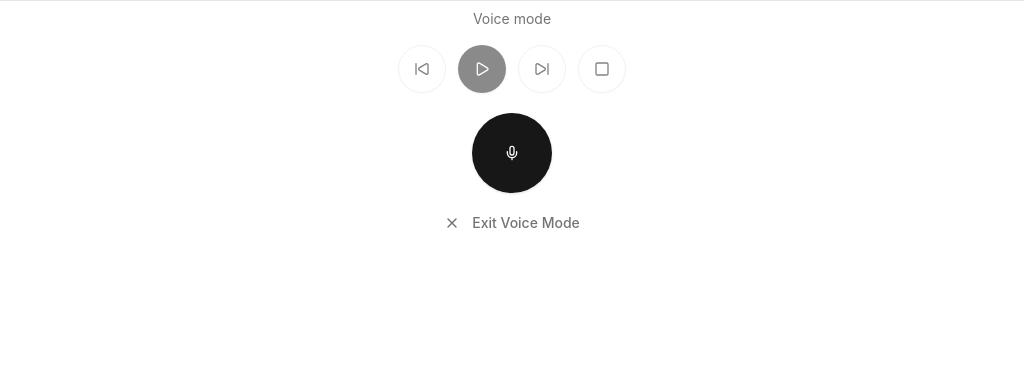
Test case: VoiceControlPanel send-failure handling › auto-send: restores the transcript and shows an error when the send rejects
Click the button named "start recording": [512, 153] box x1=472 y1=113 x2=552 y2=193
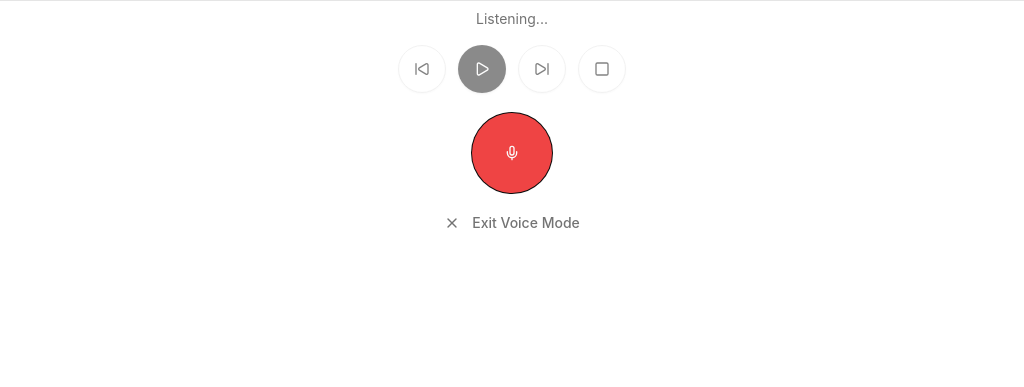
Click the button named "stop recording": [512, 153] box x1=472 y1=113 x2=552 y2=193
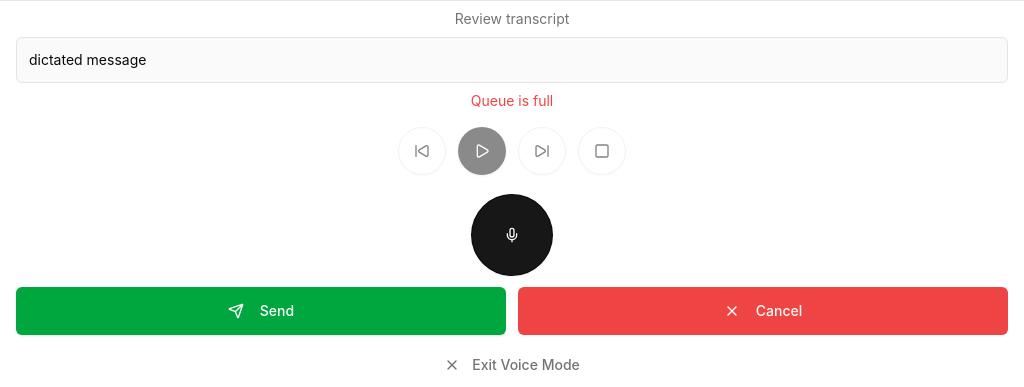
Now the text "dictated message" is shown, box x1=29 y1=51 x2=146 y2=68
Now the text "Queue is full" is shown, box x1=471 y1=92 x2=553 y2=109
